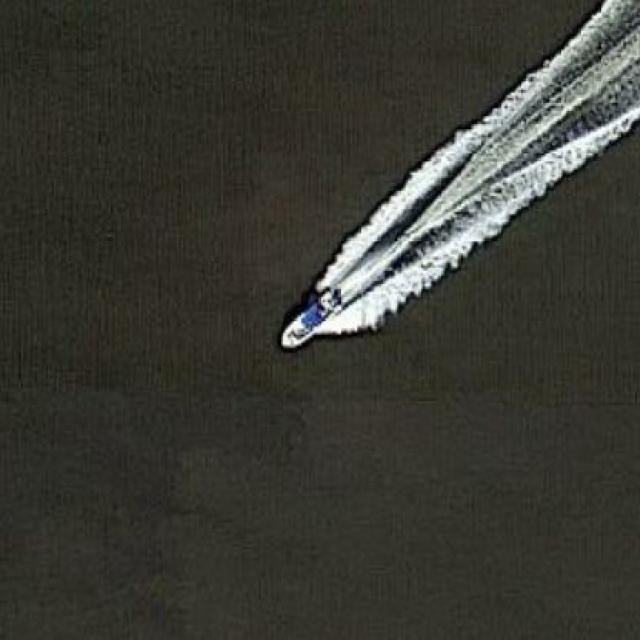boat: (272, 266, 363, 356)
